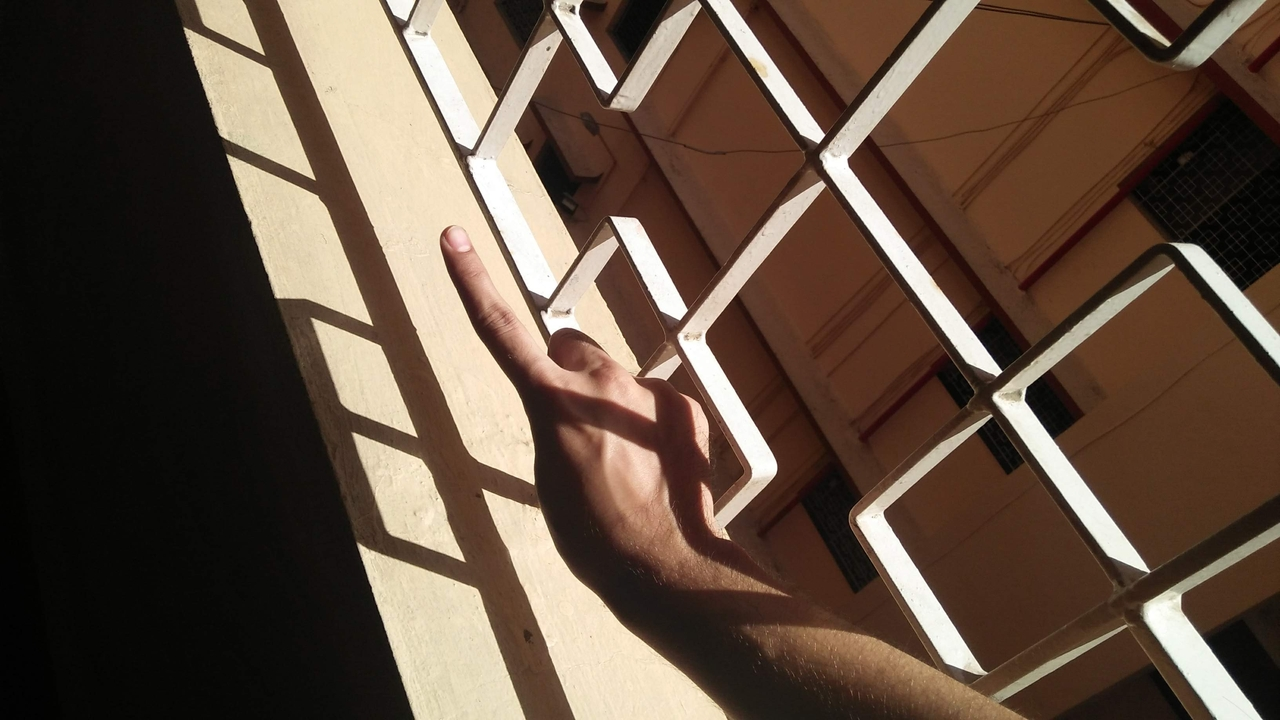fingertip: (424, 212, 482, 266)
